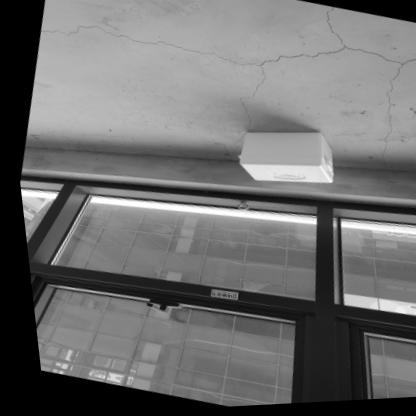DDL: (226, 116, 342, 203)
